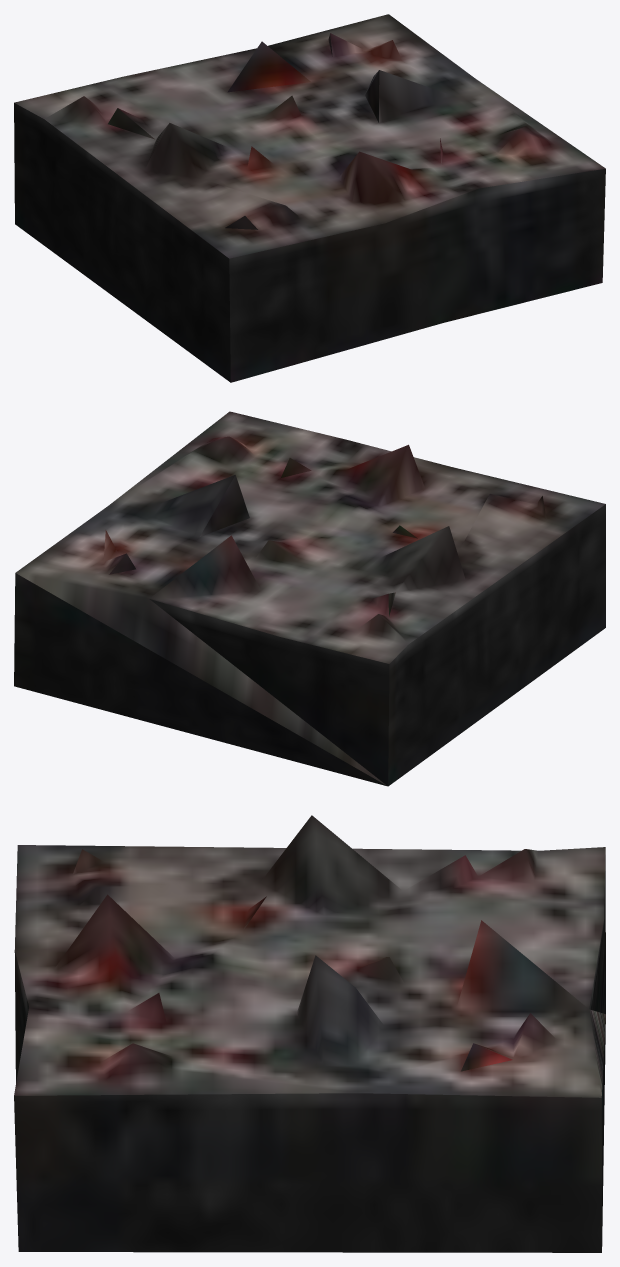
Rendered from b_braises_sol_2_lod1.glb.
3 views of the same model, one above another, from view 1: azimuth 30°, elevation 25°; view 2: azimuth 150°, elevation 25°; view 3: azimuth 270°, elevation 25° (orthographic). The views are drawn at different scales.
Visible parts, largest first — view 1: geometry_0; view 2: geometry_0; view 3: geometry_0.
Boxes of the visible parts, box(x1,y1,x2,y2) form: geometry_0: box(14, 14, 605, 382); geometry_0: box(14, 411, 605, 786); geometry_0: box(14, 815, 605, 1252).
Bounding box in the file's own units: 1 × 0.4318 × 1.
1 material, 1 textured.
